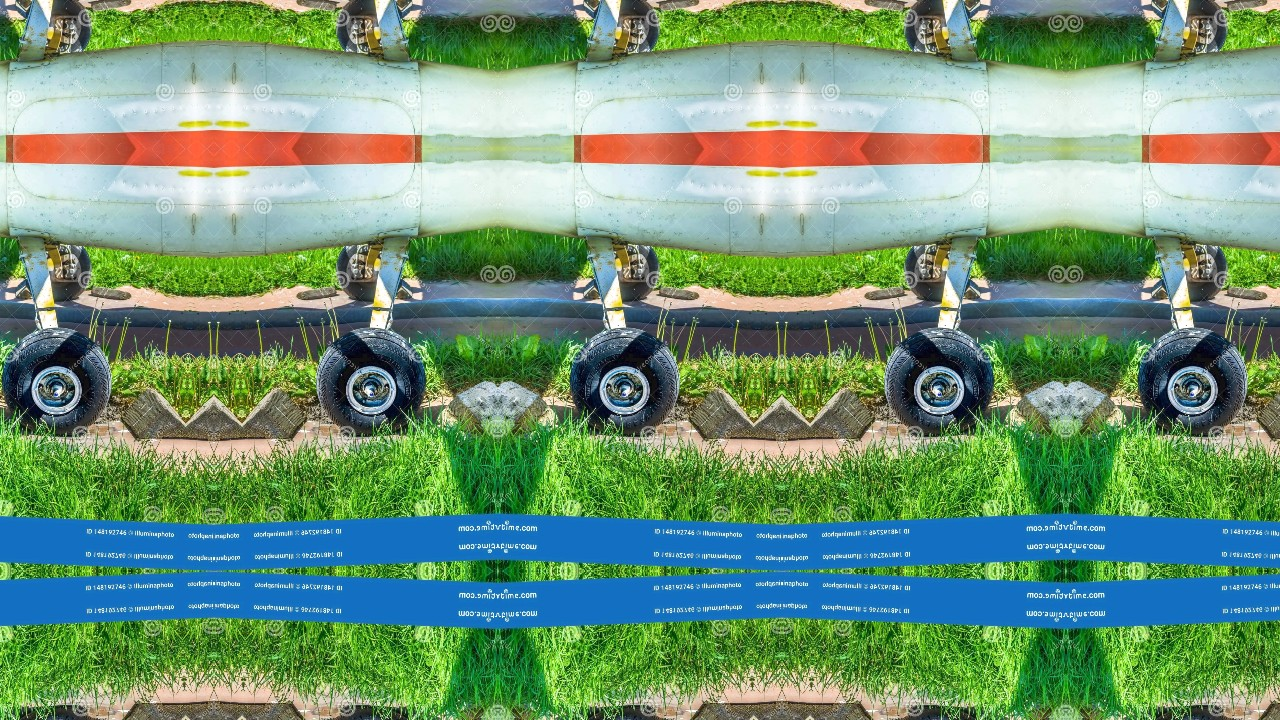chock: (119, 382, 187, 445), (240, 382, 308, 445), (687, 382, 755, 445), (809, 382, 877, 445), (435, 374, 498, 438), (498, 374, 561, 438), (1003, 374, 1066, 438), (1066, 374, 1129, 438), (184, 385, 214, 447), (214, 385, 243, 447), (753, 385, 782, 447), (782, 385, 811, 447), (1256, 382, 1280, 445), (119, 698, 187, 720), (240, 698, 308, 720), (687, 698, 755, 720), (809, 698, 877, 720), (435, 704, 498, 720), (498, 704, 561, 720), (1003, 704, 1066, 720), (1066, 704, 1129, 720), (184, 695, 214, 720), (214, 695, 243, 720), (753, 695, 782, 720), (782, 695, 811, 720), (582, 274, 602, 301), (962, 274, 982, 301), (1256, 698, 1280, 720), (14, 274, 33, 301), (394, 274, 413, 301), (1151, 274, 1170, 301), (582, 0, 602, 23), (962, 0, 982, 23), (14, 0, 33, 23), (394, 0, 413, 23), (1151, 0, 1170, 23)
wheel: (315, 326, 428, 435), (567, 326, 680, 435), (884, 326, 997, 435), (1136, 326, 1249, 435), (0, 326, 112, 435), (49, 244, 91, 301), (336, 244, 378, 301), (617, 244, 659, 301), (905, 244, 947, 301), (1186, 244, 1228, 301), (49, 0, 91, 54), (336, 0, 378, 54), (617, 0, 659, 54), (905, 0, 947, 54), (1186, 0, 1228, 54), (315, 707, 428, 720), (567, 707, 680, 720), (884, 707, 997, 720), (1136, 707, 1249, 720), (0, 707, 112, 720)
